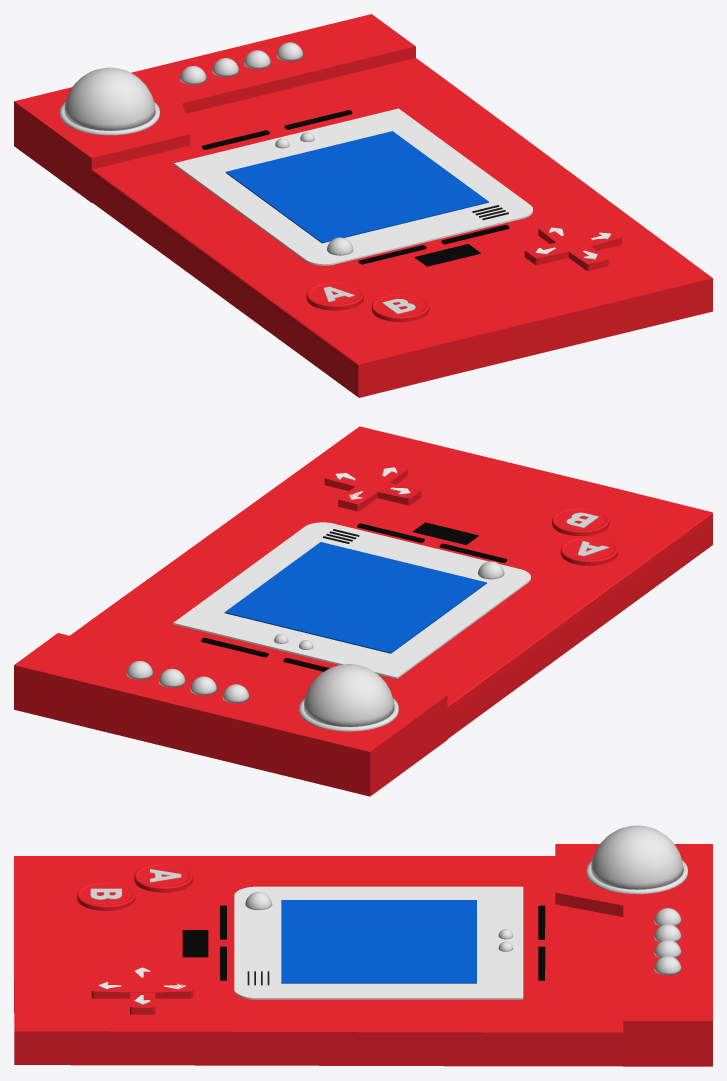
The model's file is pokedex.fbx.
3 views of the same model, one above another, from view 1: azimuth 30°, elevation 25°; view 2: azimuth 150°, elevation 25°; view 3: azimuth 270°, elevation 25° (orthographic).
Parts seen in each view (by area): view 1: Curve.001, Curve, Plano, contenedorImg, Esfera, contenedorBtnDer, Curve.013, Curve.014, Plano.001, Curve.002; view 2: Curve.001, Curve, Plano, contenedorImg, Esfera, contenedorBtnDer, Curve.013, Curve.014, Plano.001, Curve.002; view 3: Curve.001, Curve, Plano, contenedorImg, Esfera, contenedorBtnDer, Curve.013, Curve.014, Plano.001, Curve.002, Esfera.004, Esfera.007 (+3 smaller).
Boxes of the visible parts, x1,y1,x2,y2 form: Curve.001: (91, 58, 712, 397); Curve: (14, 14, 415, 202); Plano: (225, 131, 488, 243); contenedorImg: (174, 108, 532, 265); Esfera: (64, 67, 155, 130); contenedorBtnDer: (524, 223, 621, 270); Curve.013: (306, 282, 363, 310); Curve.014: (371, 293, 429, 321); Plano.001: (414, 244, 480, 266); Curve.002: (60, 102, 159, 135); Curve.001: (70, 426, 712, 738); Curve: (14, 633, 447, 796); Plano: (224, 542, 486, 653); contenedorImg: (173, 522, 530, 678); Esfera: (303, 664, 394, 726); contenedorBtnDer: (324, 463, 421, 511); Curve.013: (560, 537, 617, 565); Curve.014: (552, 508, 609, 535); Plano.001: (413, 522, 478, 544); Curve.002: (299, 698, 398, 731); Curve.001: (14, 856, 623, 1066); Curve: (555, 844, 712, 1066); Plano: (281, 900, 476, 983); contenedorImg: (234, 886, 523, 999); Esfera: (591, 825, 683, 889); contenedorBtnDer: (91, 964, 193, 1014); Curve.013: (134, 863, 192, 892); Curve.014: (77, 882, 135, 910); Plano.001: (182, 930, 208, 957); Curve.002: (586, 860, 687, 894); Esfera.004: (654, 956, 681, 975); Esfera.007: (245, 892, 272, 910).
Bounding box in the file's own units: 389 × 90.75 × 649.
